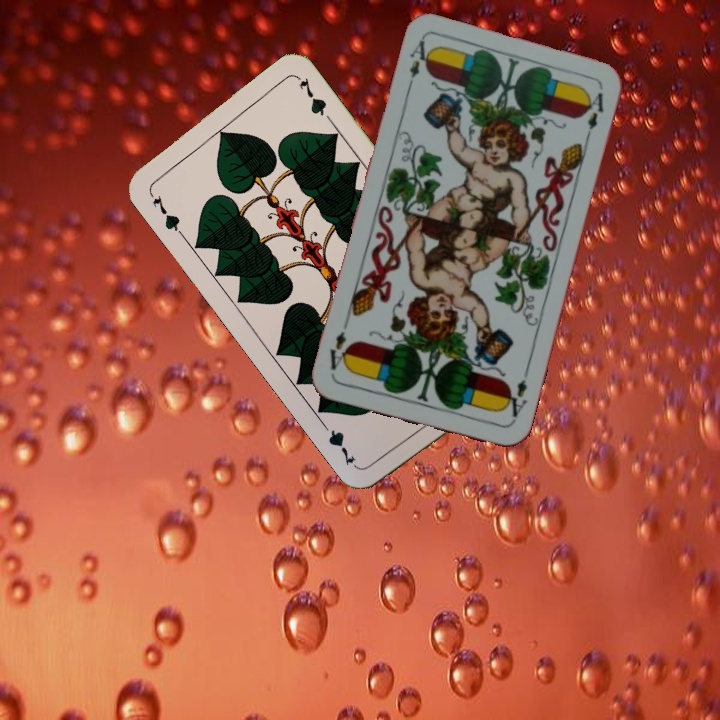EA: (499, 366, 532, 424), (403, 36, 436, 94)
G7: (148, 191, 186, 238)
